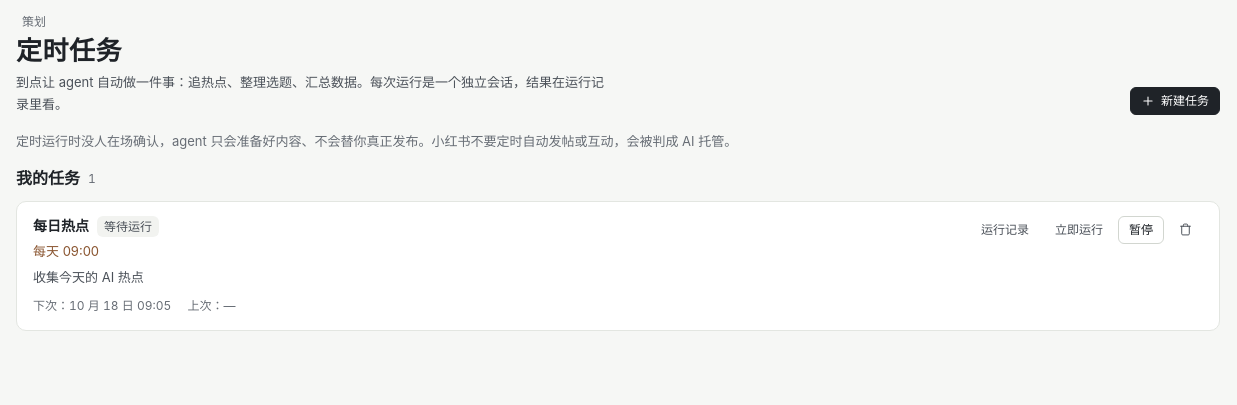
CronPage › 暂停调后端并给出提示
This screenshot has width=1237, height=405.
Click the button "暂停" at [1141, 230], box [1118,216,1164,244]
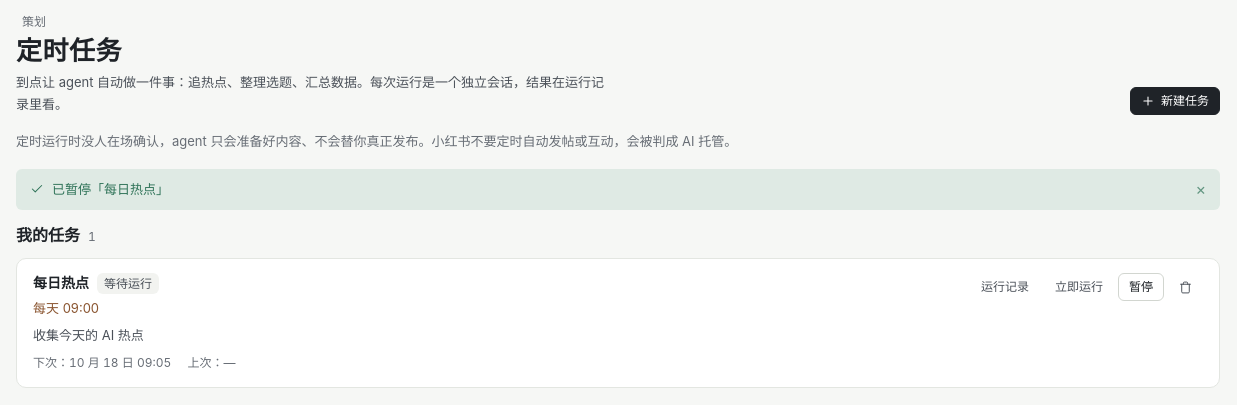
Check: the text "已暂停「每日热点」" is shown, box [52,181,169,197]
